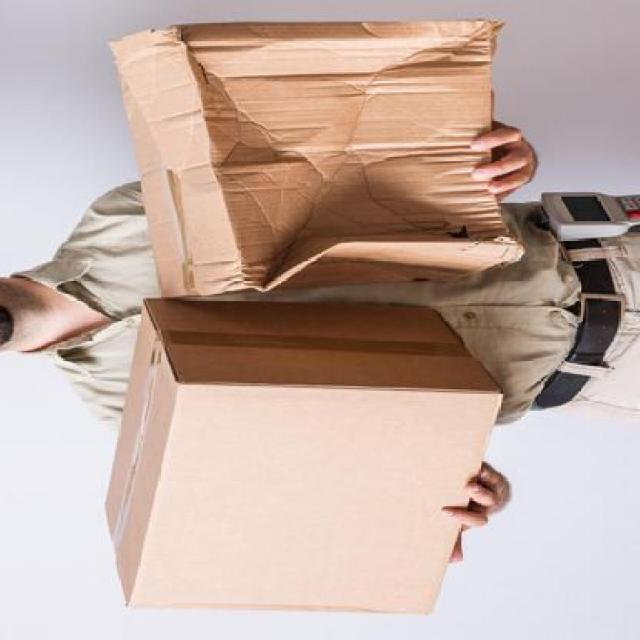defect: (102, 14, 524, 301)
normal: (97, 294, 509, 618)
